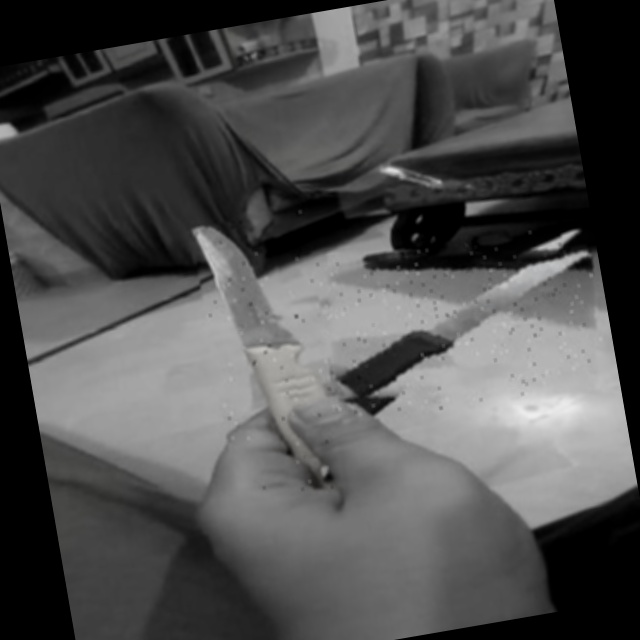Sharp-Object: (312, 218, 610, 426), (190, 211, 349, 505)
